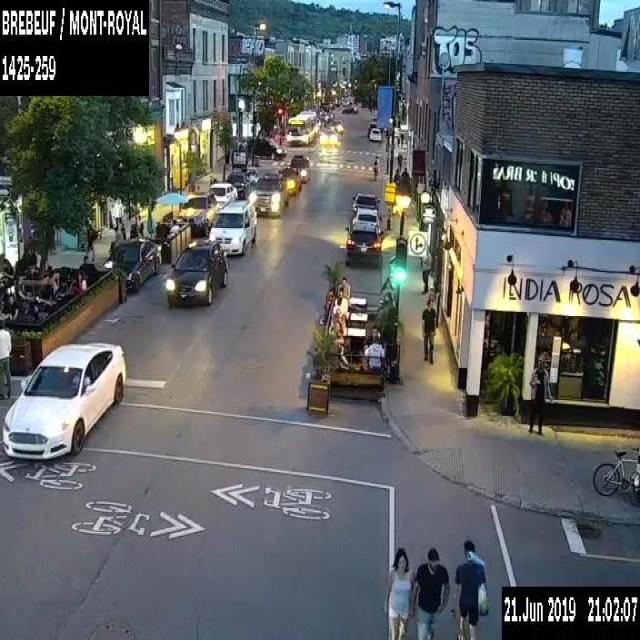bus: (286, 109, 316, 144)
cyclist: (371, 150, 378, 182)
pedestrian: (382, 545, 414, 639), (415, 544, 447, 637), (457, 542, 486, 638), (527, 356, 553, 435), (420, 298, 435, 366), (0, 317, 12, 400), (364, 334, 384, 372), (419, 246, 432, 294), (112, 195, 125, 240), (328, 321, 344, 353), (84, 220, 95, 261), (20, 243, 36, 269), (334, 285, 348, 311), (330, 307, 346, 329), (365, 325, 382, 345), (337, 275, 350, 297), (331, 296, 345, 316), (396, 150, 402, 172), (399, 132, 404, 148)
vehicle: (1, 340, 127, 459), (166, 240, 226, 309), (101, 234, 162, 294), (208, 200, 256, 256), (176, 191, 218, 237), (246, 172, 286, 216), (342, 223, 381, 265), (247, 133, 287, 158), (205, 182, 238, 209), (276, 166, 302, 194), (350, 208, 380, 232), (351, 190, 379, 213), (289, 153, 311, 182), (318, 126, 338, 147), (317, 110, 329, 127), (329, 119, 343, 132), (369, 126, 381, 141), (366, 122, 376, 136), (340, 106, 356, 113)
